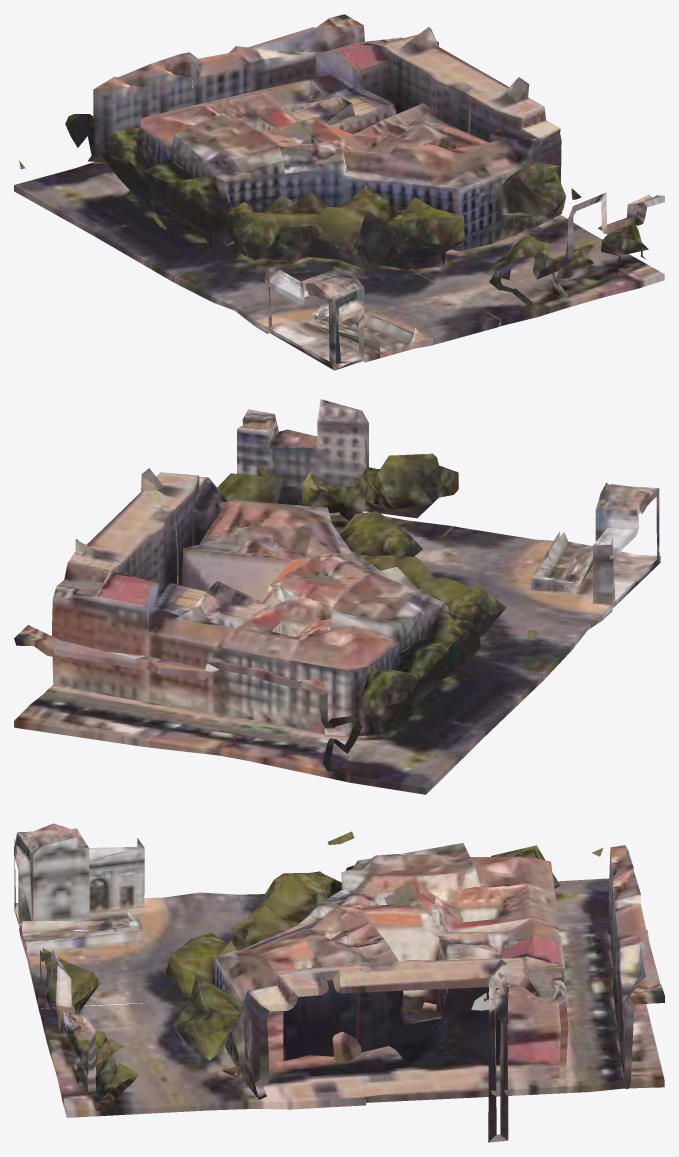
The picture shows the model from 3 angles, top to bottom: view 1: azimuth 30°, elevation 25°; view 2: azimuth 150°, elevation 25°; view 3: azimuth 270°, elevation 25°; orthographic projection. The views are drawn at different scales.
Parts seen in each view (by area): view 1: Mesh_0; view 2: Mesh_0; view 3: Mesh_0.
Boxes of the visible parts, x1,y1,x2,y2 form: Mesh_0: [14, 14, 664, 370]; Mesh_0: [14, 399, 660, 794]; Mesh_0: [14, 823, 664, 1142].
Size of the model in its own units: 133 by 50.17 by 165.
2 materials, 2 textured.
